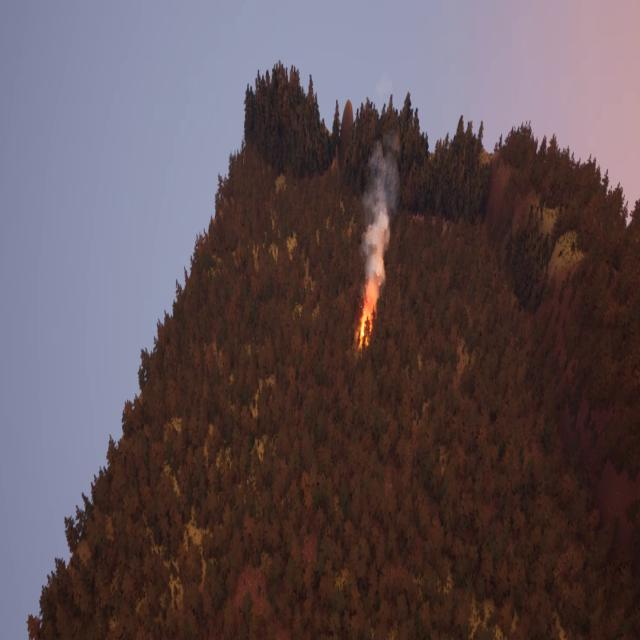fire: (356, 289, 379, 351)
smoke: (365, 138, 400, 303)
